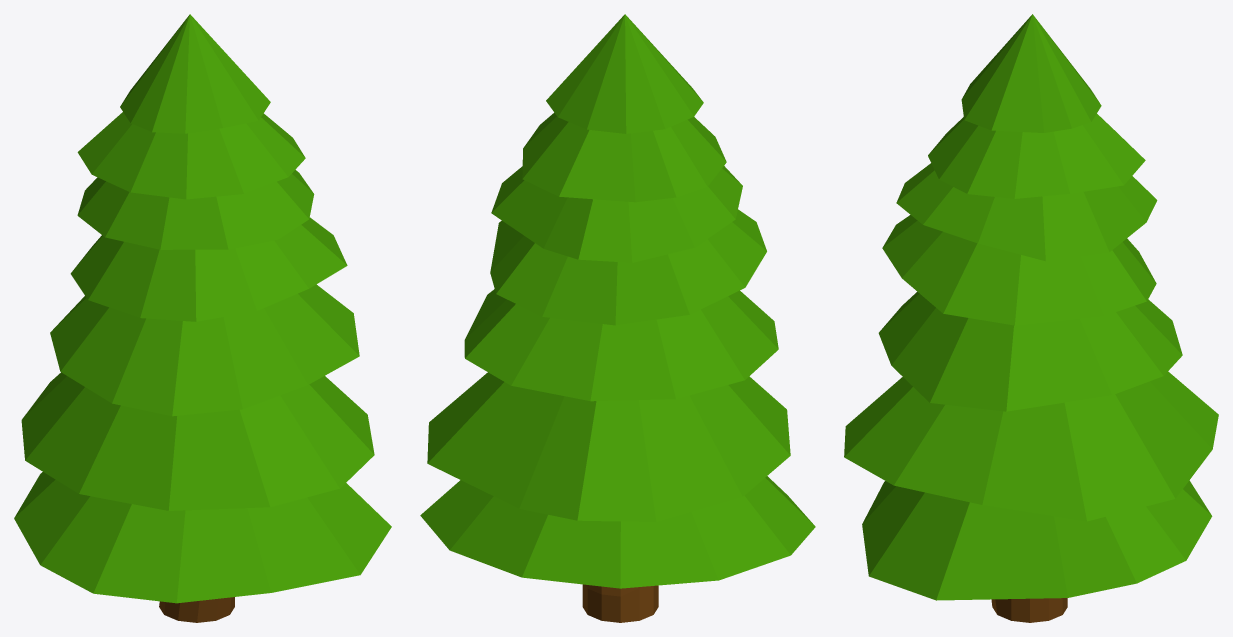
File: Spruce_3.fbx
3 renders of one model, left to right at view 1: azimuth 30°, elevation 25°; view 2: azimuth 150°, elevation 25°; view 3: azimuth 270°, elevation 25°, orthographic.
Visible parts, largest first — view 1: Pine; view 2: Pine; view 3: Pine.
Part boxes in pixels (<box>): Pine: <box>14,14,391,622</box>; Pine: <box>420,14,815,622</box>; Pine: <box>844,14,1218,622</box>.
Bounding box in the file's own units: 12.64 × 22 × 12.66.
